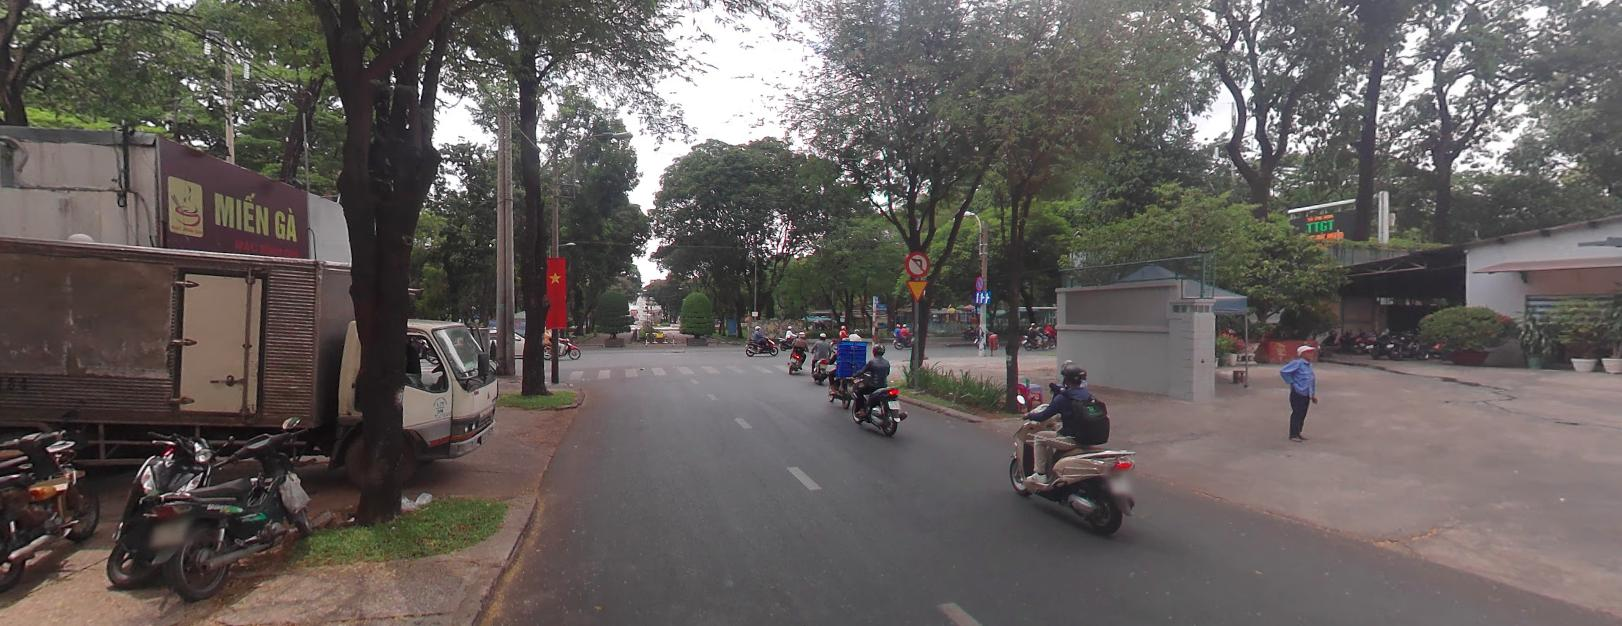Cam dung va do: (974, 274, 982, 289)
Cam re: (904, 248, 929, 276)
Nguy hiem: (903, 277, 929, 301)
